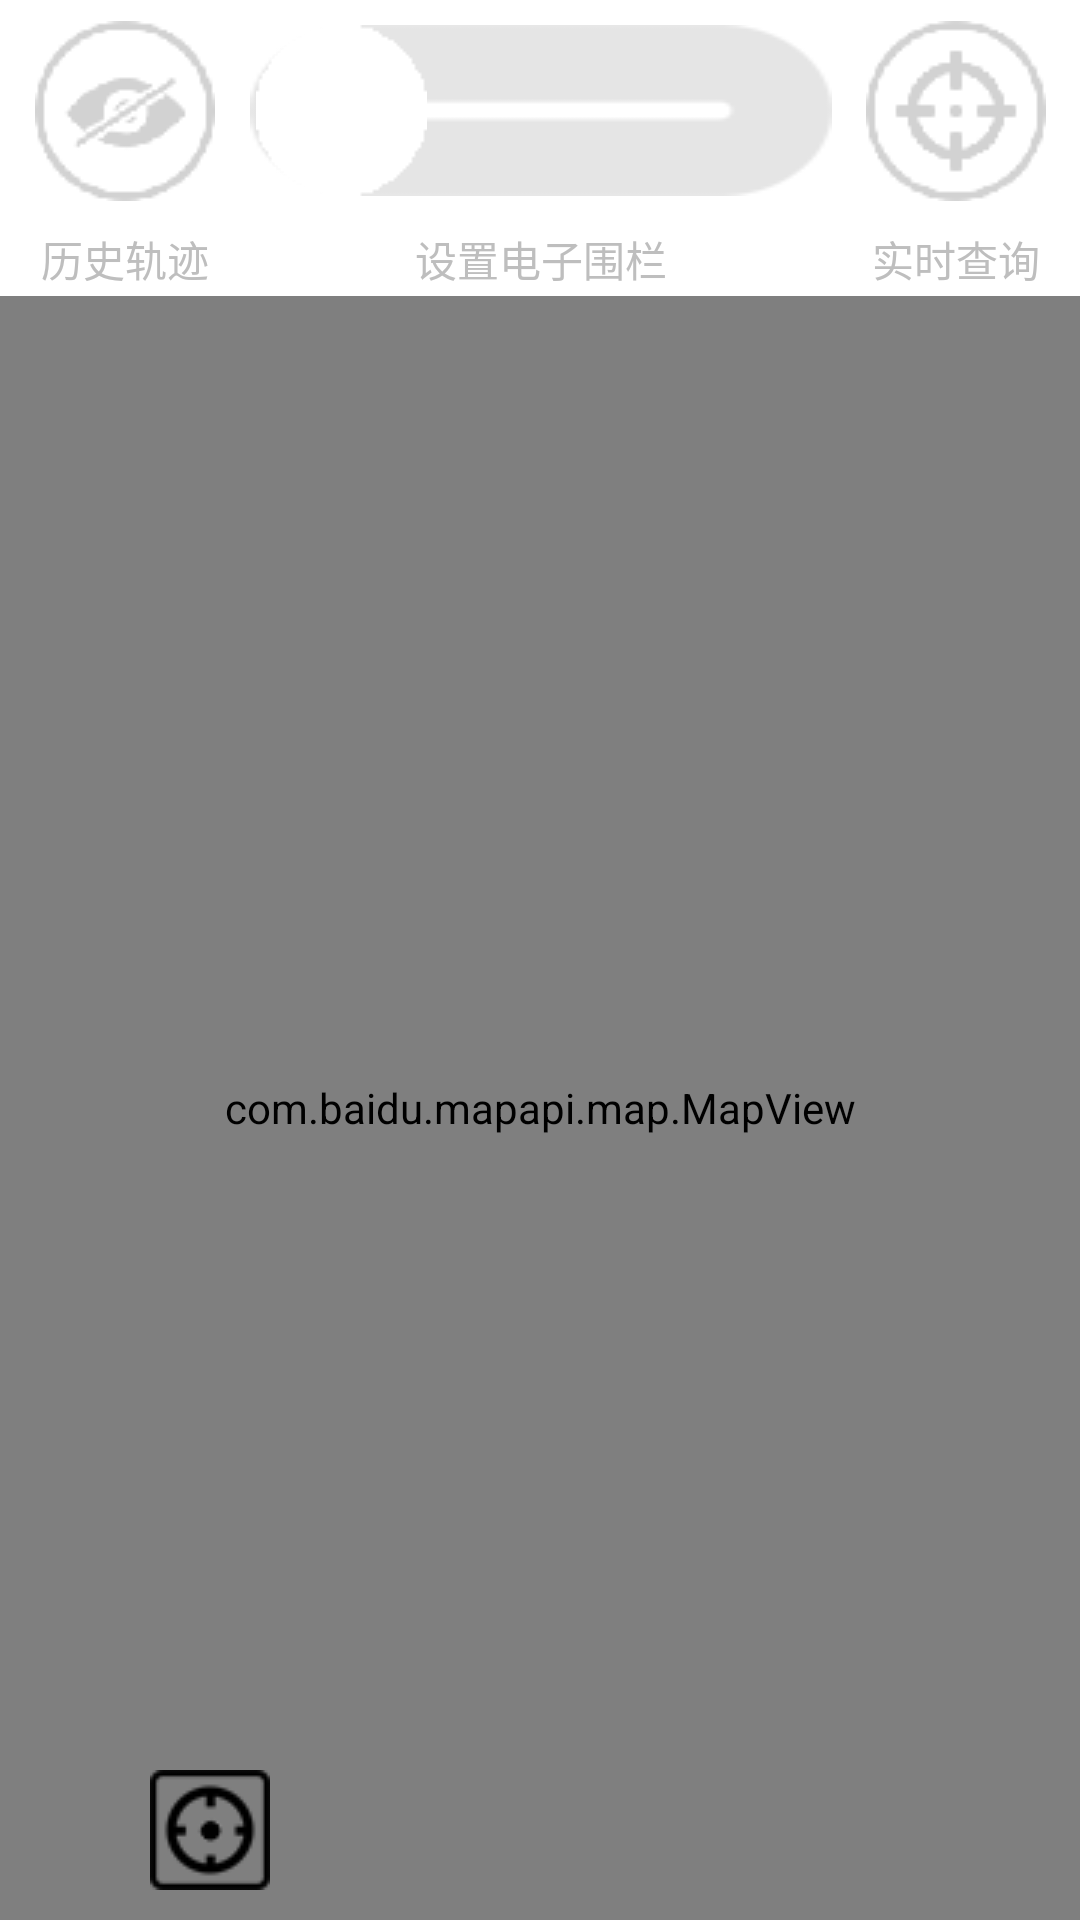

Icons on this 1080x1920 Android screen, each with its box as (x1, y1, x2, y2):
hide: (35, 21, 215, 201)
locate: (866, 21, 1046, 201)
mylocation: (150, 1770, 270, 1890)
